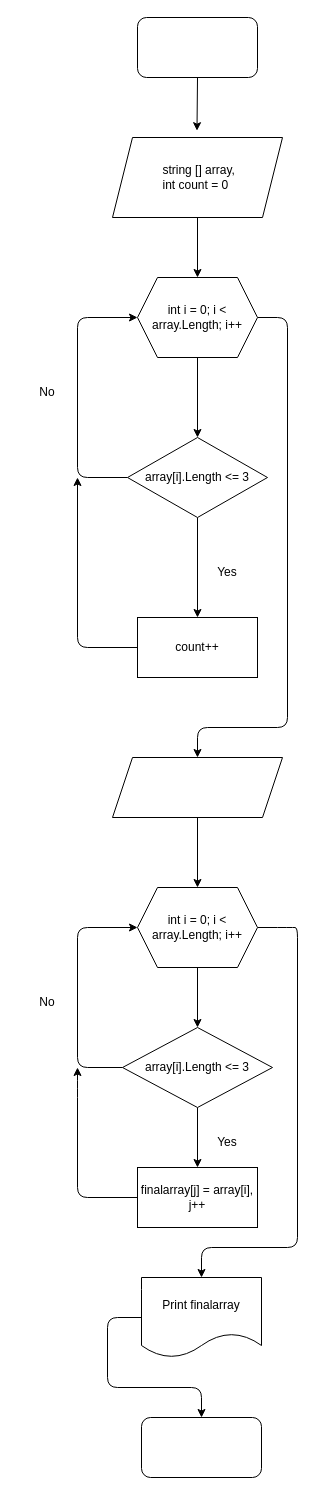
This 323x1495 diagram has some shape labels left out. The centre of each missing label's shape, as x and y in pixels:
"End" goes at point (201, 1447).
"Start" goes at point (197, 47).
"string[] finalarray = new string[count], int j = 0" goes at point (197, 787).
